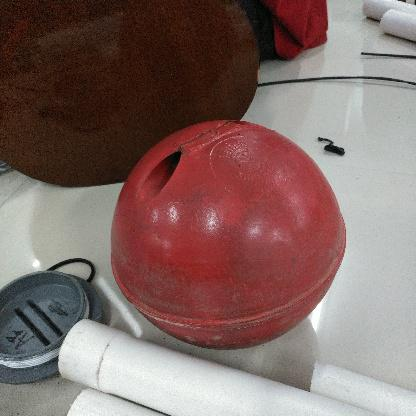red_buoy: (110, 117, 348, 348)
